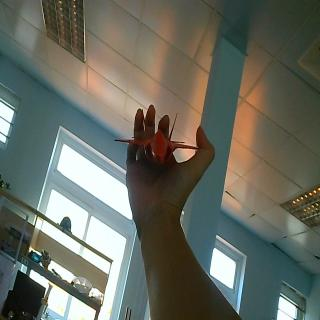Jet: (113, 110, 199, 168)
